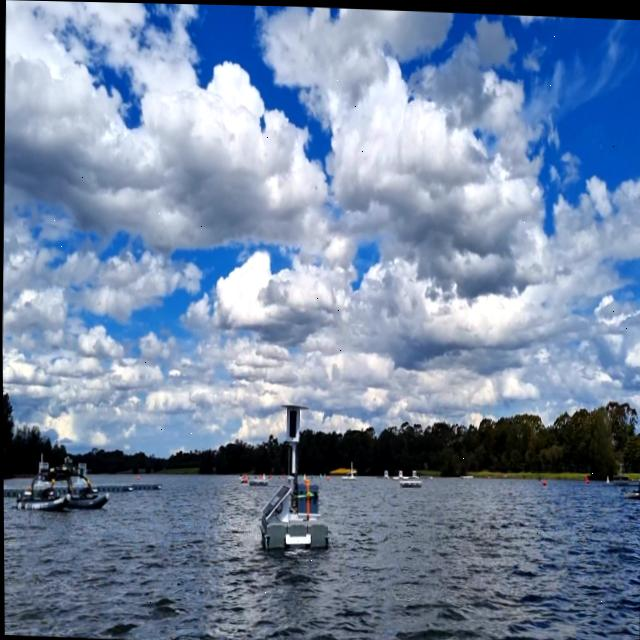led: (287, 407, 298, 438)
